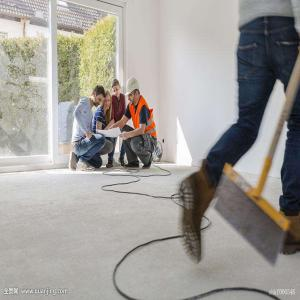none: (92, 84, 104, 109), (111, 78, 122, 100), (103, 89, 112, 113)
white: (125, 77, 142, 106)
